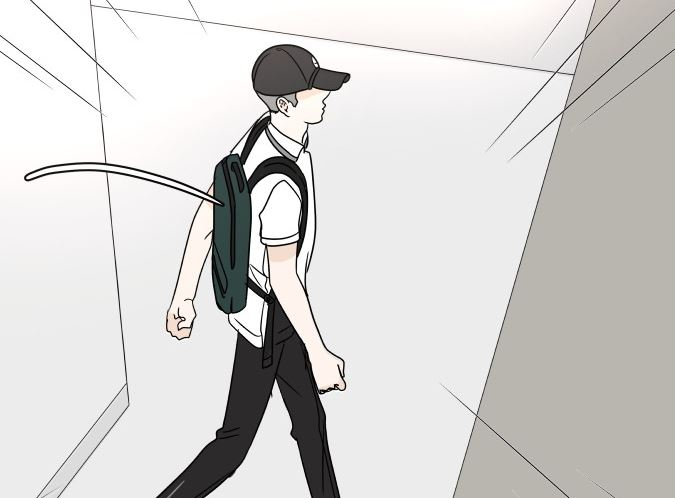hat: (251, 43, 349, 95)
